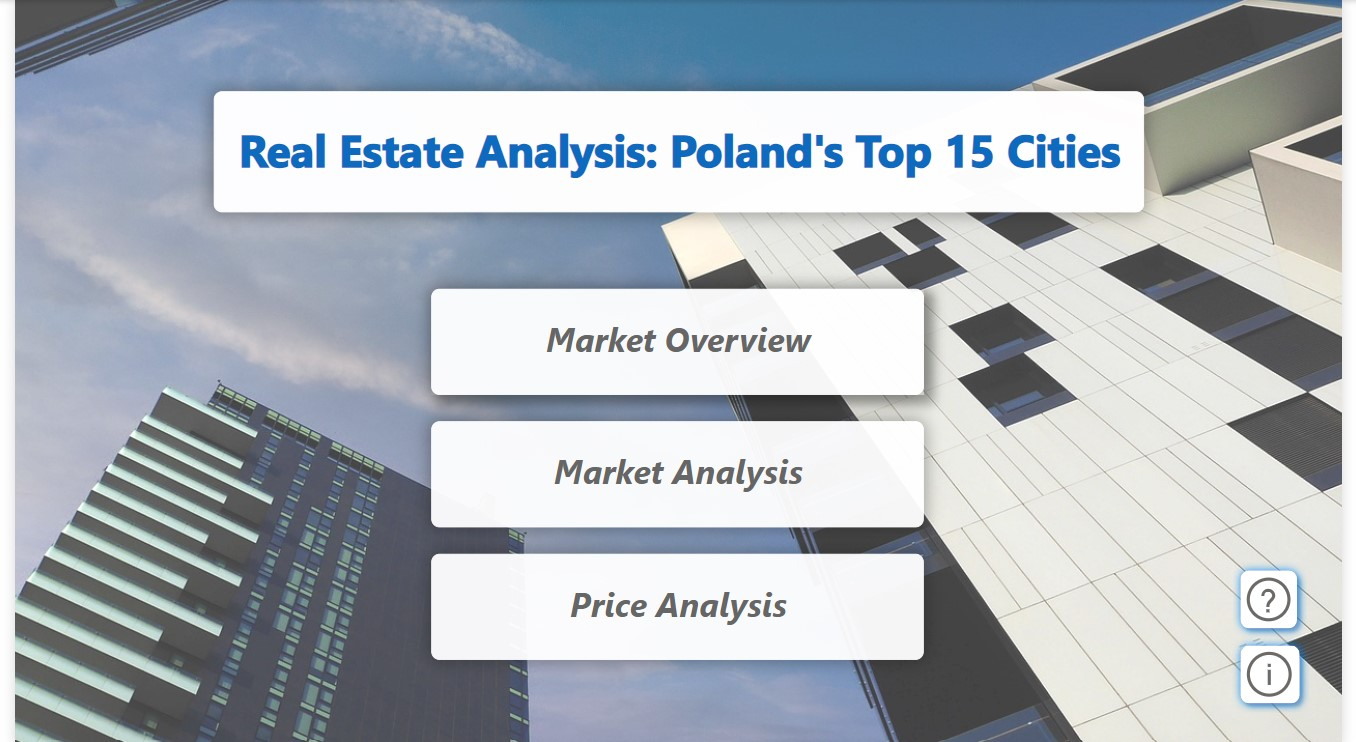

The dashboard page shown, as its layout file describes it:
{"tool":"powerbi","page":{"name":"Main Page","canvas":[1280,720],"ordinal":0},"visuals":[{"type":"actionButton","box":[1173.8,613.8,75,73.8],"z":0},{"type":"textbox","box":[401.3,279,475.5,102.7],"z":1000},{"type":"textbox","box":[401.3,534.5,475.5,102.7],"z":2000},{"type":"textbox","box":[401.3,406.8,475.5,102.7],"z":3000},{"type":"textbox","box":[191.4,88,897.3,117],"z":4000},{"type":"actionButton","box":[401.5,406.5,475.2,102.5],"z":6000},{"type":"actionButton","box":[401.5,279,475.2,102.5],"z":7000},{"type":"actionButton","box":[401.5,534.9,475.2,102.5],"z":8000},{"type":"actionButton","box":[1173.8,541.2,72.5,73.8],"z":9000}]}

Visuals, with their boxes in screenshot pixels (x1, y1, x2, y2), scaled from the page's 1280x720 canvas onto the 1356x742 screenshot:
actionButton: {"x1": 1243, "y1": 633, "x2": 1323, "y2": 709}
textbox: {"x1": 425, "y1": 288, "x2": 929, "y2": 393}
textbox: {"x1": 425, "y1": 551, "x2": 929, "y2": 657}
textbox: {"x1": 425, "y1": 419, "x2": 929, "y2": 525}
textbox: {"x1": 203, "y1": 91, "x2": 1153, "y2": 211}
actionButton: {"x1": 425, "y1": 419, "x2": 929, "y2": 525}
actionButton: {"x1": 425, "y1": 288, "x2": 929, "y2": 393}
actionButton: {"x1": 425, "y1": 551, "x2": 929, "y2": 657}
actionButton: {"x1": 1243, "y1": 558, "x2": 1320, "y2": 634}
